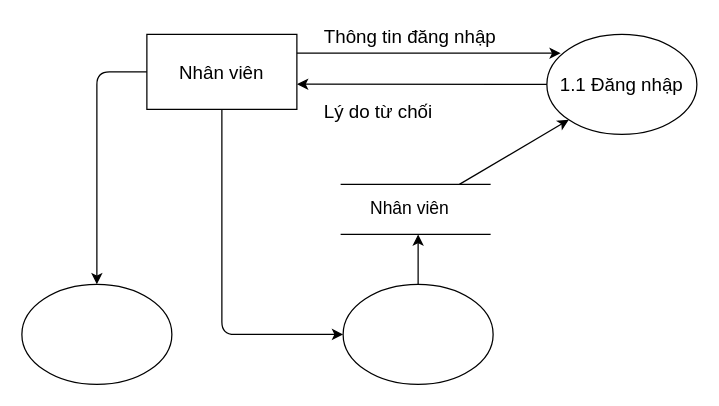
Image size: 719x406. Some labels were removed from this diagram. The centre of each missing label's shape, as x and y in pixels:
"1.2 Đổi mật khẩu" goes at point (417, 333).
"1.3 Đăng xuất" goes at point (96, 333).
